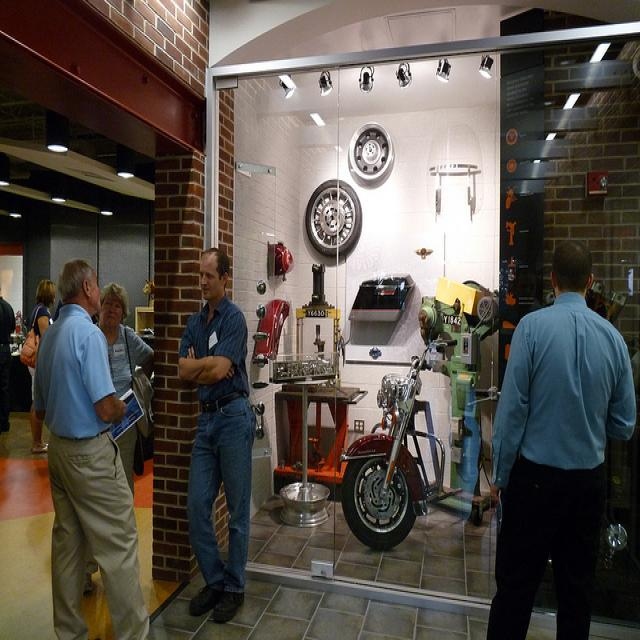motor: (339, 332, 463, 550)
